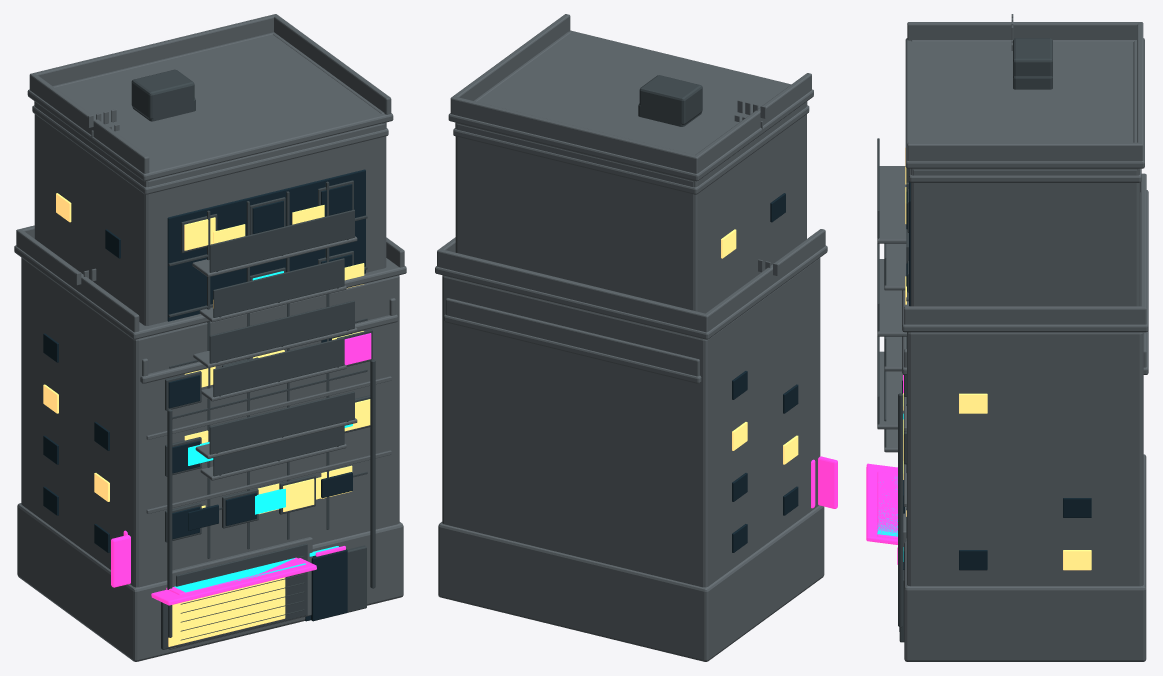
File: night-drop-city-kit.glb
3 views of the same model, side by side, from view 1: azimuth 30°, elevation 25°; view 2: azimuth 150°, elevation 25°; view 3: azimuth 270°, elevation 25° (orthographic). The views are drawn at different scales.
Parts seen in each view (by area): view 1: ND_Batch_structure.002, ND_Batch_structure.006, ND_Batch_metal.006, ND_Batch_metal.007, ND_Batch_structure.004, ND_Batch_glass, ND_Batch_metal.004, ND_Batch_glass.002, ND_Batch_warm.002, ND_Batch_structure, ND_Batch_metal, ND_Batch_practical.002 (+8 smaller); view 2: ND_Batch_structure.002, ND_Batch_structure.006, ND_Batch_structure.004, ND_Batch_structure, ND_Batch_metal.006, ND_Batch_glass.002, ND_Batch_practical.002, ND_Batch_warm.002; view 3: ND_Batch_structure.002, ND_Batch_structure.006, ND_Batch_structure, ND_Batch_metal.006, ND_Batch_structure.007, ND_Batch_metal.004, ND_Batch_practical.003, ND_Batch_warm.002, ND_Batch_practical.002, ND_Batch_glass.002, ND_Batch_metal, ND_Batch_structure.004 (+1 smaller).
Part boxes in pixels (box(x1,y1,x2,y2)): ND_Batch_structure.002: box(14, 225, 406, 661); ND_Batch_structure.006: box(27, 14, 393, 458); ND_Batch_metal.006: box(131, 69, 354, 454); ND_Batch_metal.007: box(213, 258, 344, 476); ND_Batch_structure.004: box(140, 298, 397, 649); ND_Batch_glass: box(167, 169, 365, 321); ND_Batch_metal.004: box(167, 359, 375, 647); ND_Batch_glass.002: box(43, 333, 347, 621); ND_Batch_warm.002: box(43, 384, 370, 646); ND_Batch_structure: box(32, 32, 388, 194); ND_Batch_metal: box(132, 97, 367, 558); ND_Batch_practical.002: box(111, 333, 371, 605); ND_Batch_structure.002: box(435, 229, 827, 661); ND_Batch_structure.006: box(448, 14, 813, 313); ND_Batch_structure.004: box(444, 298, 701, 453); ND_Batch_structure: box(453, 31, 809, 194); ND_Batch_metal.006: box(639, 75, 702, 125); ND_Batch_glass.002: box(732, 371, 798, 552); ND_Batch_practical.002: box(818, 456, 837, 508); ND_Batch_warm.002: box(732, 422, 798, 464); ND_Batch_structure.002: box(902, 173, 1148, 661); ND_Batch_structure.006: box(877, 14, 1144, 429); ND_Batch_structure: box(909, 39, 1141, 182); ND_Batch_metal.006: box(877, 38, 1052, 424); ND_Batch_structure.007: box(884, 243, 906, 452); ND_Batch_metal.004: box(898, 393, 904, 642); ND_Batch_practical.003: box(877, 471, 897, 538); ND_Batch_warm.002: box(903, 393, 1091, 570); ND_Batch_practical.002: box(866, 375, 903, 564); ND_Batch_glass.002: box(899, 498, 1091, 631); ND_Batch_metal: box(906, 76, 1052, 538); ND_Batch_structure.004: box(902, 330, 1148, 550).
Size of the model in its own units: 9.8 by 16.67 by 8.1.
